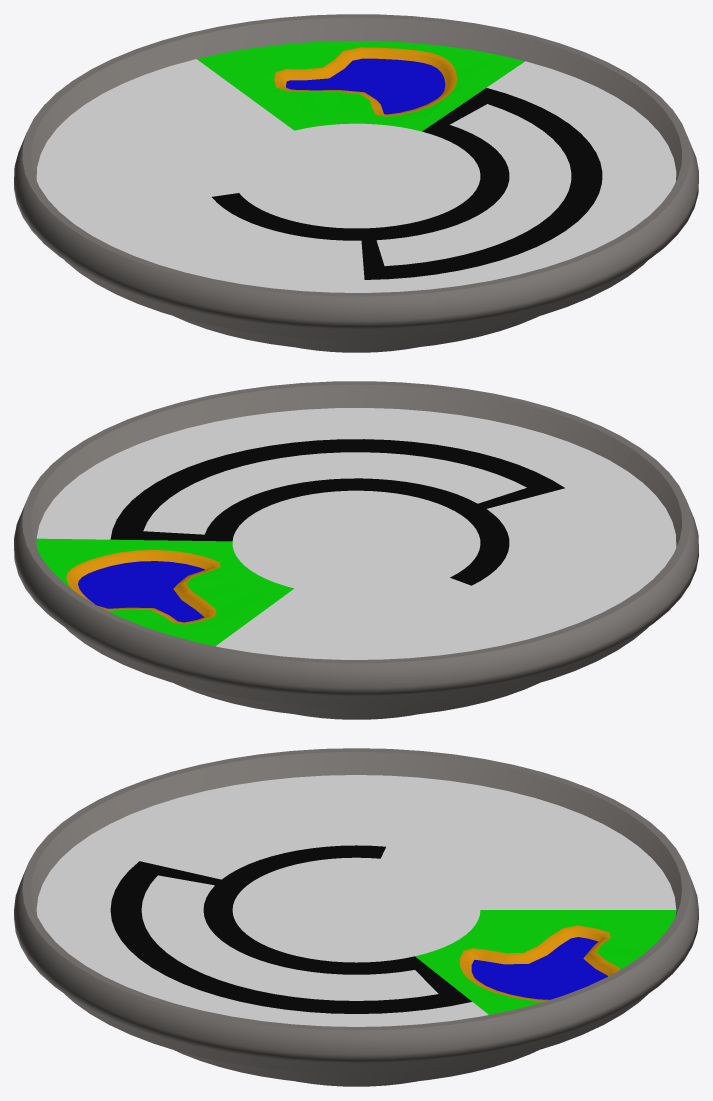
The model's file is Floor_Reference_Base.fbx.
The picture shows the model from 3 angles, top to bottom: view 1: azimuth 30°, elevation 25°; view 2: azimuth 150°, elevation 25°; view 3: azimuth 270°, elevation 25°; orthographic projection.
Visible parts, largest first — view 1: Cylinder.017; view 2: Cylinder.017; view 3: Cylinder.017.
Boxes of the visible parts, x1=… form: Cylinder.017: x1=14, y1=14, x2=698, y2=352; Cylinder.017: x1=14, y1=381, x2=698, y2=719; Cylinder.017: x1=14, y1=748, x2=698, y2=1086.
Size of the model in its own units: 14967 by 3700 by 14967.
